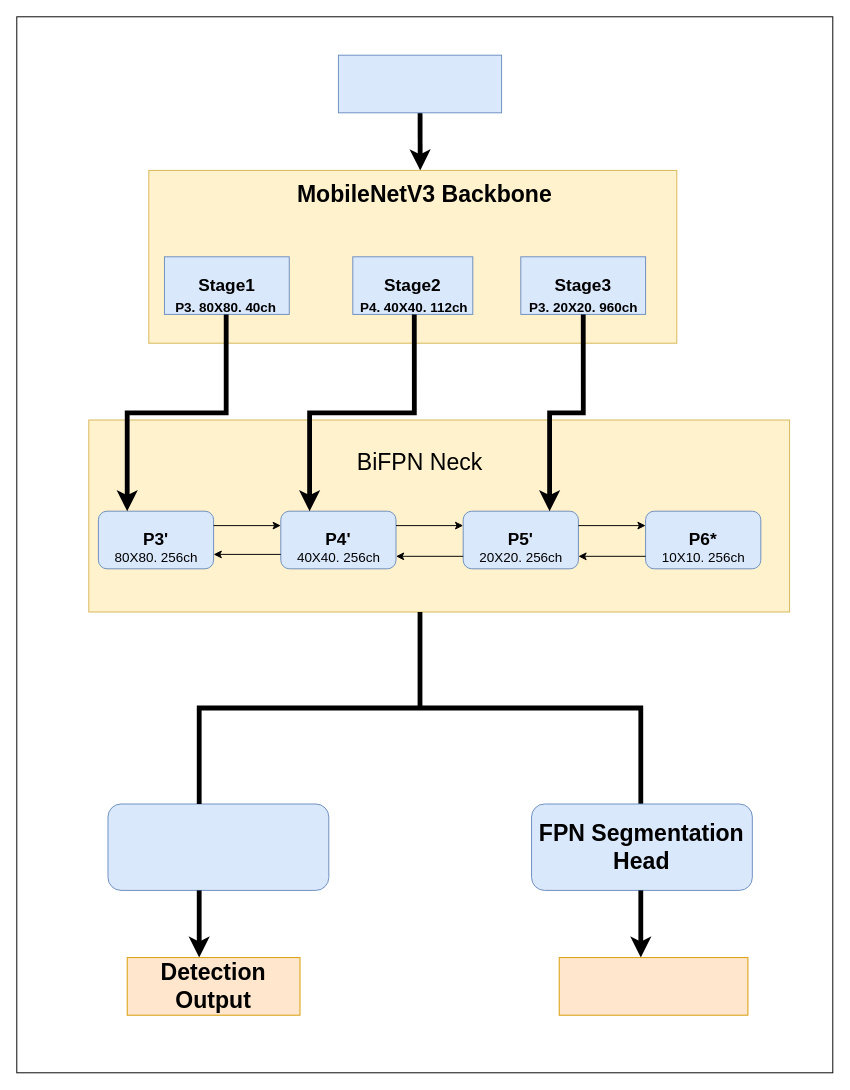
The diagram is 850 pixels wide and 1090 high, and some of its shapes have lost their labels. Each missing label, with the centre of its shape:
"FCOS Detection Head" belongs at pixel 218 846.
"Input Image" belongs at pixel 419 83.
"Segmentation Output" belongs at pixel 653 986.
